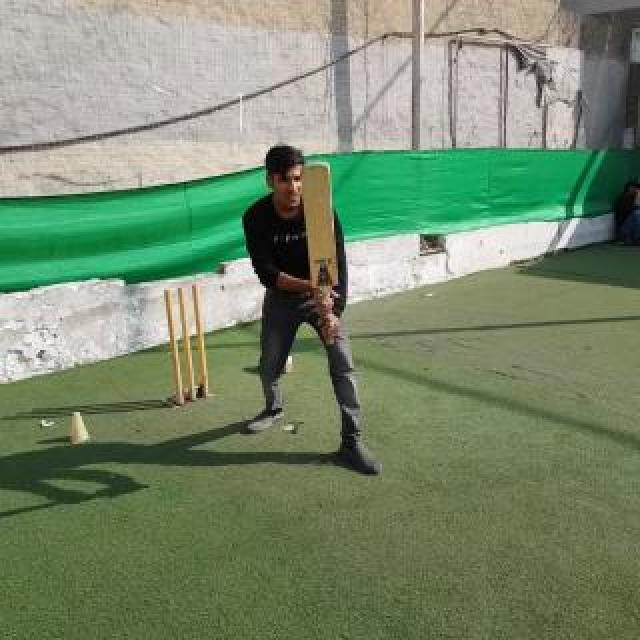bat: (300, 160, 338, 346)
